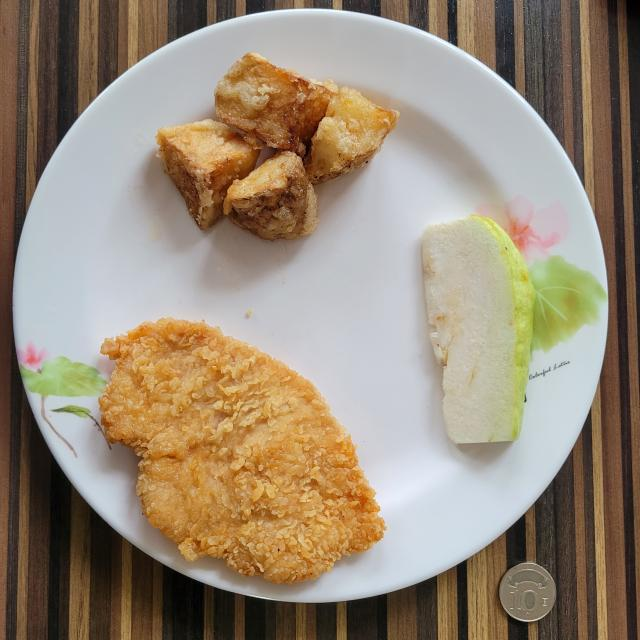coin: (499, 562, 556, 622)
fried chicken cutlet: (99, 319, 385, 584)
fried potato: (156, 52, 399, 240)
guava -sliced-: (421, 215, 535, 444)
